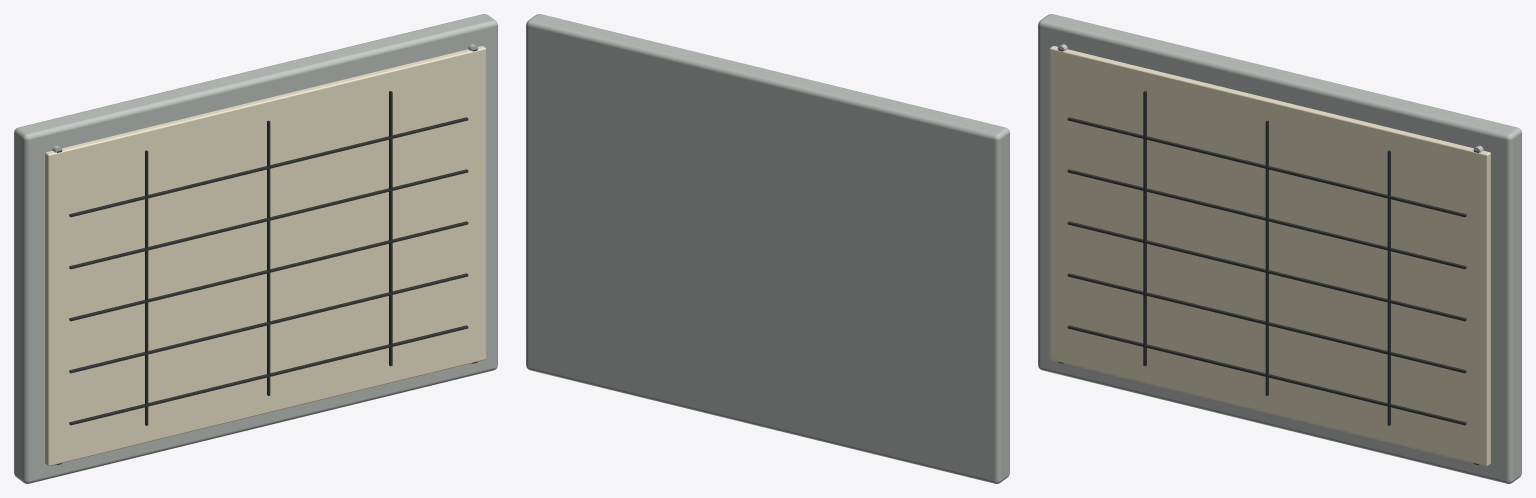
The model's file is spacecraft-thermal-test-chamber-test-schedule-board-dae22dcd__32071.glb.
The picture shows the model from 3 angles, left to right: view 1: azimuth 30°, elevation 25°; view 2: azimuth 150°, elevation 25°; view 3: azimuth 330°, elevation 25°; orthographic projection.
Parts seen in each view (by area): view 1: test-schedule-board; view 2: test-schedule-board; view 3: test-schedule-board.
Boxes of the visible parts, <box> form: test-schedule-board: <box>14,14,497,483</box>; test-schedule-board: <box>526,14,1009,483</box>; test-schedule-board: <box>1038,14,1521,483</box>.
Bounding box in the file's own units: 1.05 × 0.74 × 0.077.
